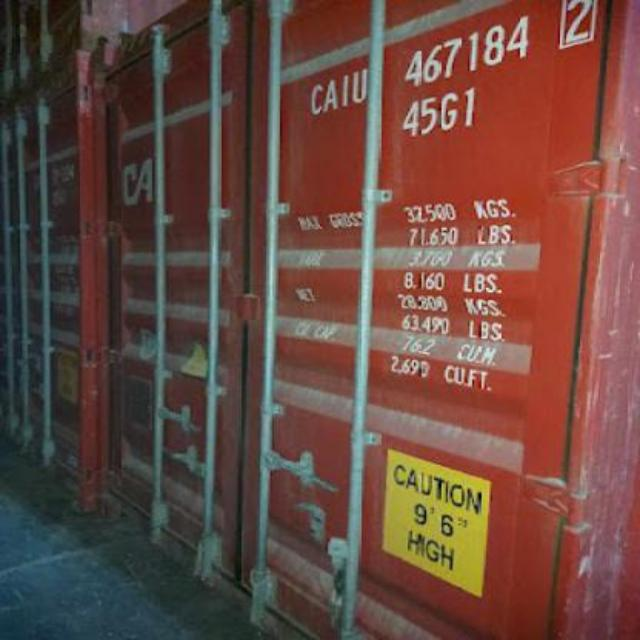1: (464, 27, 484, 77)
2: (558, 1, 600, 48)
4: (506, 12, 536, 64), (406, 44, 422, 94)
6: (422, 42, 440, 88)
7: (440, 36, 460, 84)
8: (480, 20, 504, 76)
A: (320, 79, 338, 117)
C: (306, 79, 322, 117)
I: (338, 68, 352, 110)
U: (348, 68, 366, 108)
